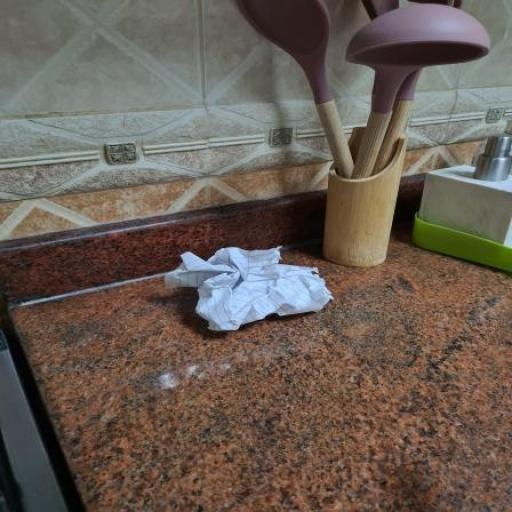paper: (166, 238, 341, 337)
